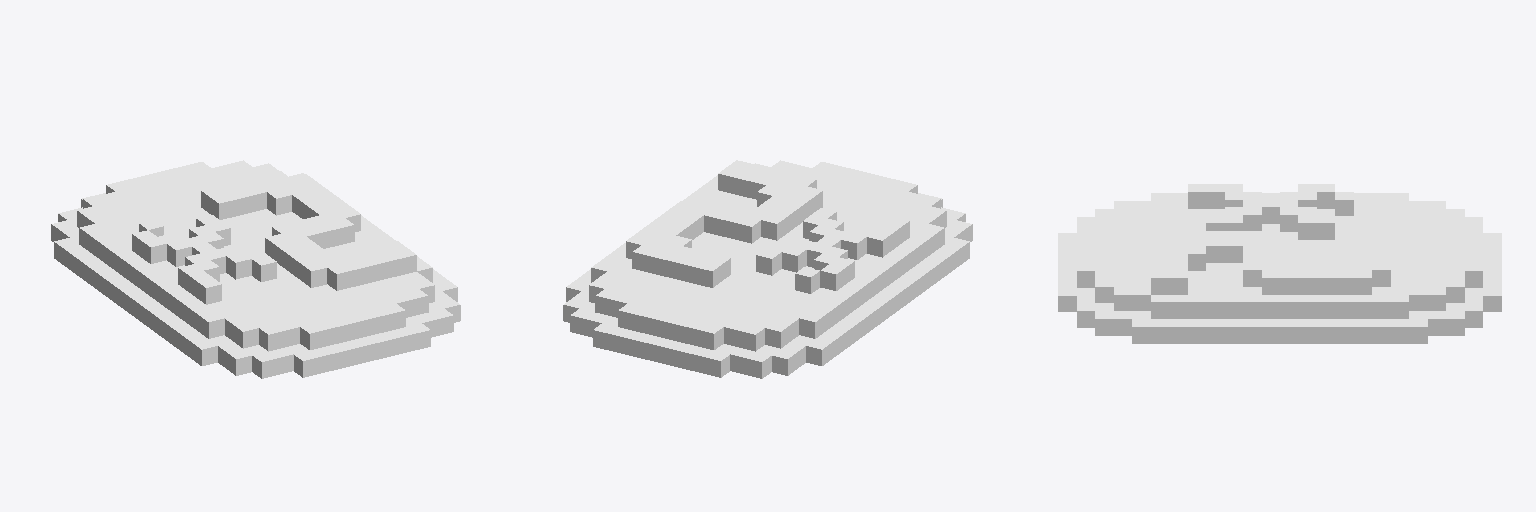
Rendered from cycle2.obj.
The picture shows the model from 3 angles: view 1: azimuth 30°, elevation 25°; view 2: azimuth 150°, elevation 25°; view 3: azimuth 270°, elevation 25°; orthographic projection.
Parts seen in each view (by area): view 1: ObjObject.008; view 2: ObjObject.008; view 3: ObjObject.008.
Part boxes in pixels (left/top/right/bottom): ObjObject.008: left=51, top=160, right=460, bottom=378; ObjObject.008: left=563, top=160, right=972, bottom=378; ObjObject.008: left=1058, top=184, right=1501, bottom=343.
Bounding box in the file's own units: 1.6 × 0.3 × 2.4.